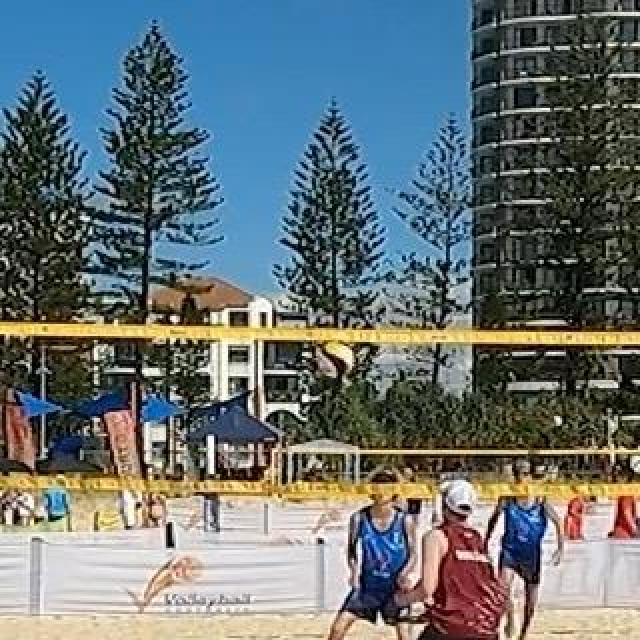volleyball: (318, 342, 354, 378)
